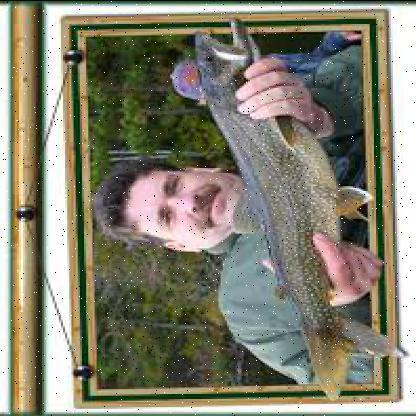fish: (181, 17, 397, 398)
